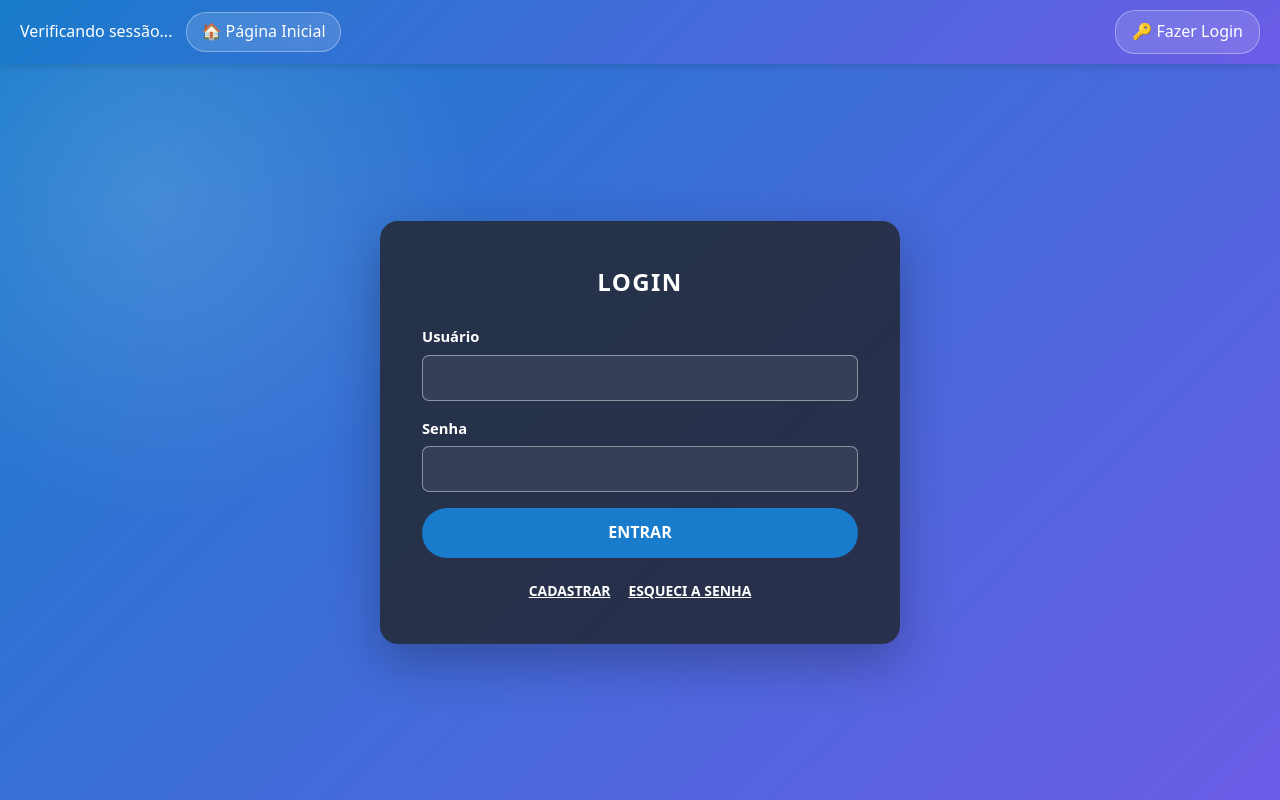
Test case: authentication screens › validates PHP empty semantics and does not submit invalid credentials
Type "0" into the field labelled "Usuário". click: (640, 378)
box: x1=422 y1=355 x2=858 y2=401
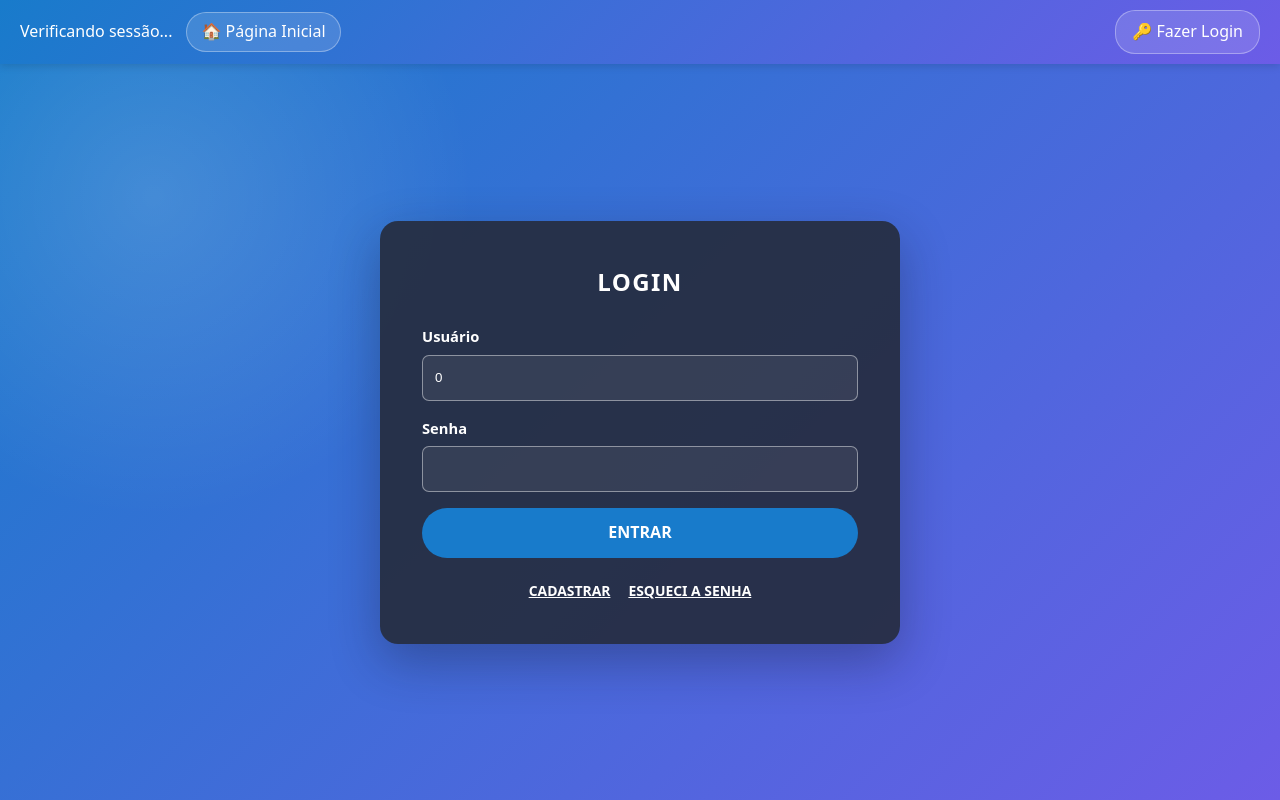
Type "senha123" into the password field labelled "Senha". click: (640, 469)
box: x1=422 y1=446 x2=858 y2=492
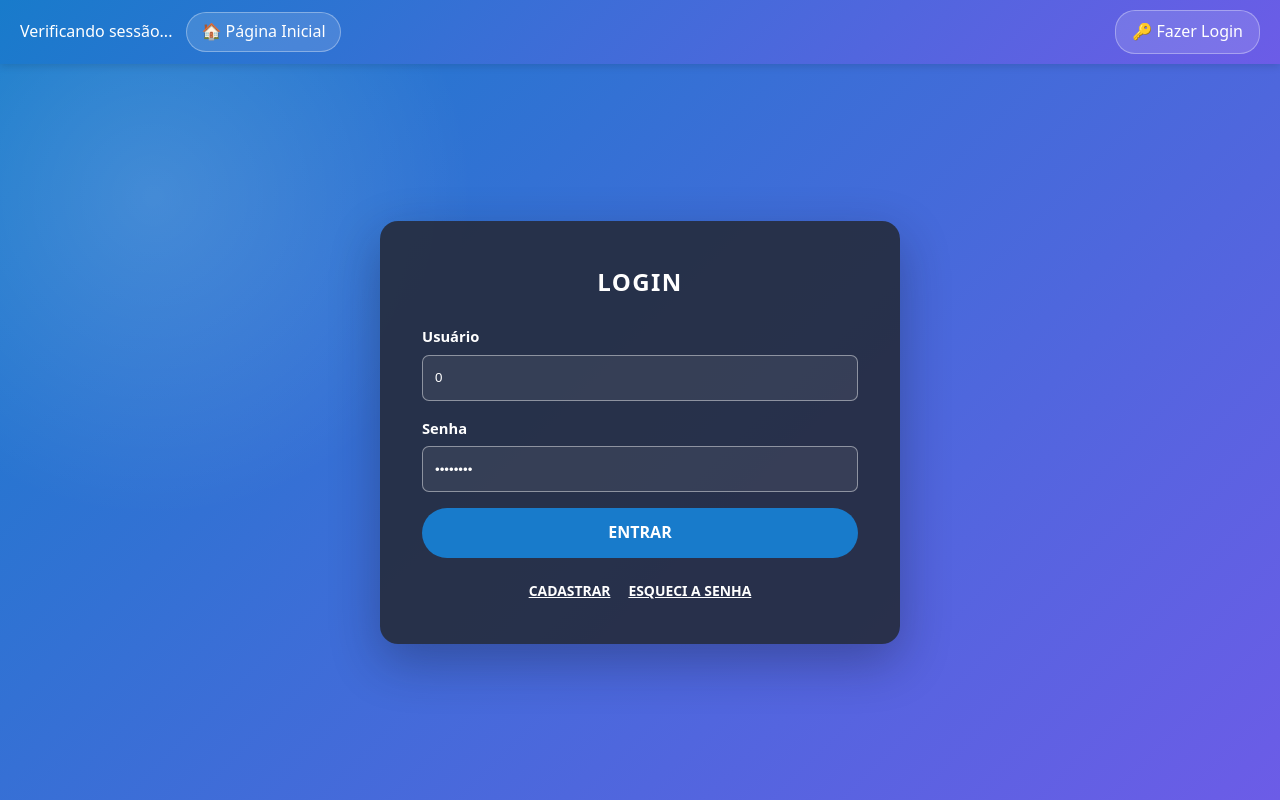
Click the button "ENTRAR". click: (640, 533)
box: x1=422 y1=508 x2=858 y2=558
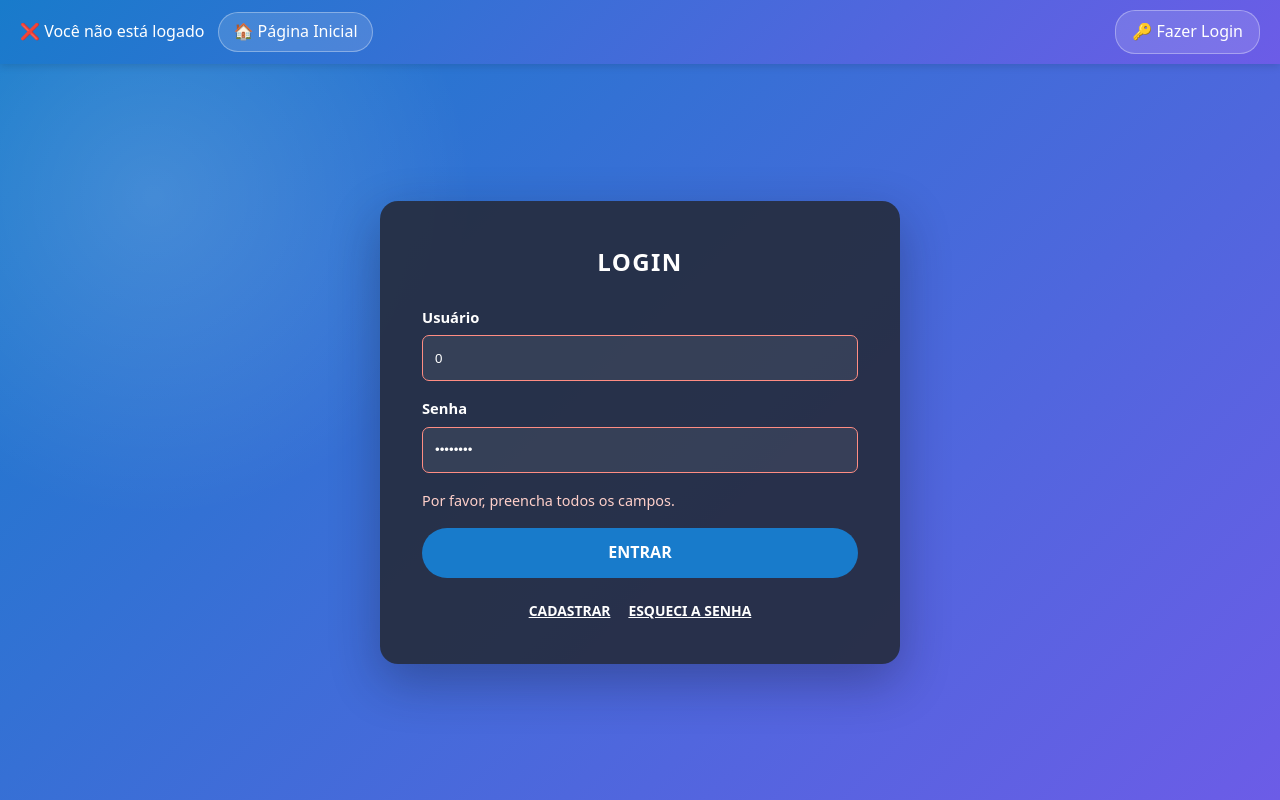
Now the text "Por favor, preencha todos os campos." is shown, box x1=422 y1=491 x2=675 y2=510
